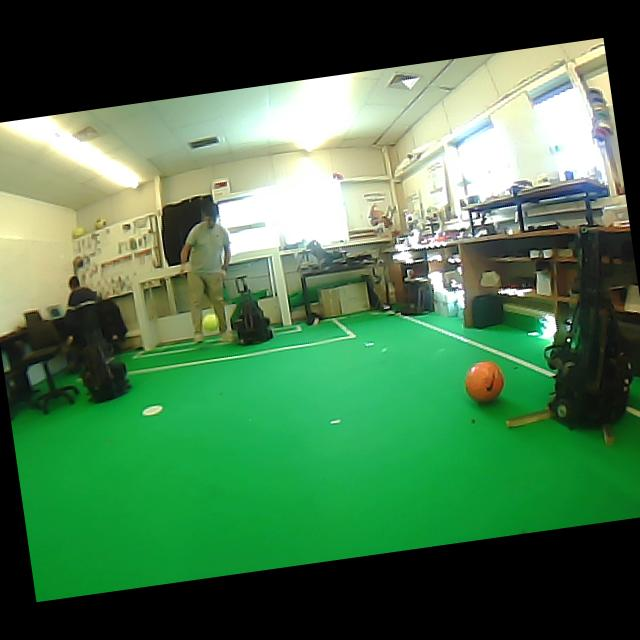ball: (465, 360, 504, 402), (202, 312, 219, 335), (72, 226, 87, 238), (94, 218, 106, 229)
goal: (271, 247, 291, 326)
robot: (548, 229, 632, 429), (82, 342, 131, 402), (231, 276, 272, 345)
